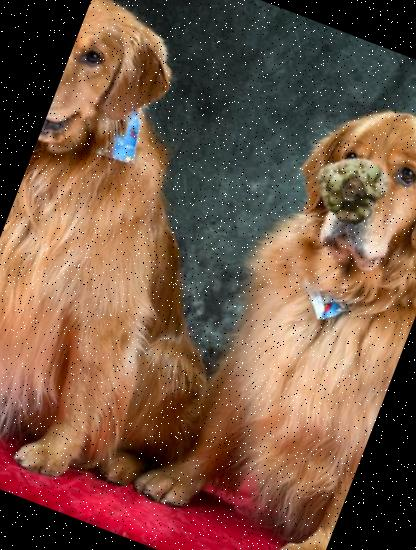Cauliflower: (308, 144, 402, 236)
